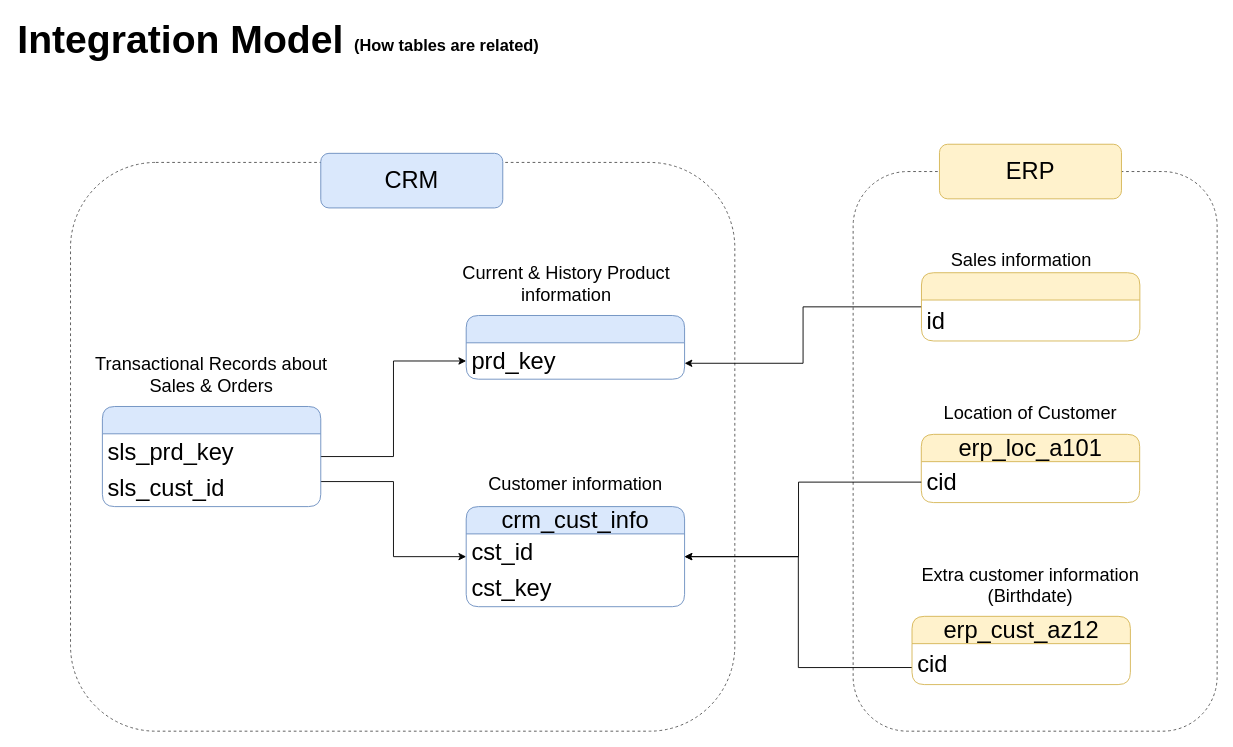
The diagram is 1233 pixels wide and 747 high, and some of its shapes have lost their labels. Here are the shapes that lost their labels. From the top down, the box of each, then its label:
(921, 272, 1140, 341): erp_px_cat_glv2
(465, 315, 685, 379): crm_prd_info
(101, 406, 321, 507): crm_sls_details
